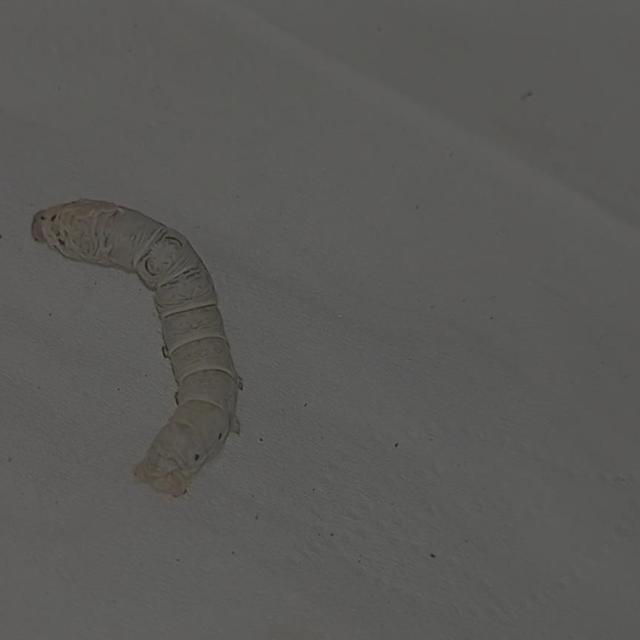Healthy: (25, 190, 253, 504)
